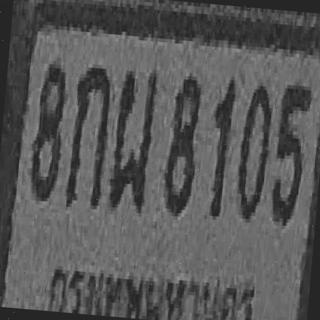A01: (64, 61, 113, 208)
A28: (108, 65, 158, 212)
N00: (234, 81, 274, 220)
N01: (206, 75, 236, 217)
N05: (268, 79, 312, 225)
N08: (161, 71, 202, 214), (28, 61, 68, 200)
P04: (42, 254, 262, 320)
